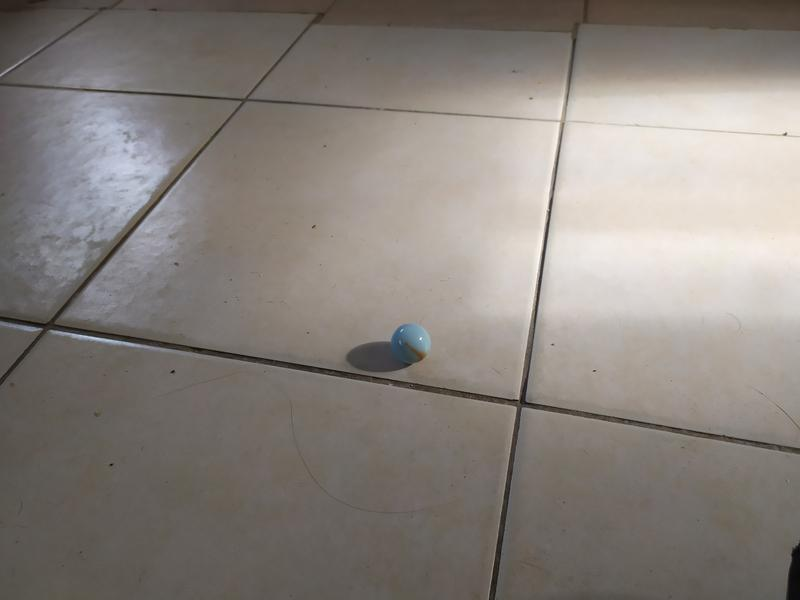Warning: (389, 321, 434, 366)
